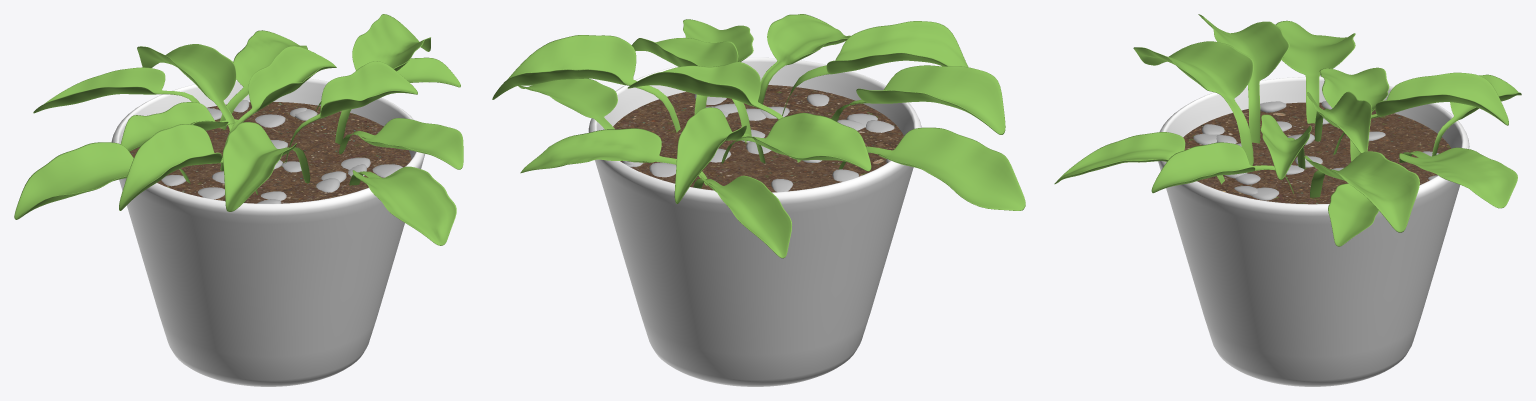
The model's file is planta3.glb.
3 views of the same model, side by side, from view 1: azimuth 30°, elevation 25°; view 2: azimuth 150°, elevation 25°; view 3: azimuth 270°, elevation 25° (orthographic). The views are drawn at different scales.
Parts seen in each view (by area): view 1: plant asset, Cylinder; view 2: plant asset, Cylinder; view 3: plant asset, Cylinder.
Part boxes in pixels (x1,y1,x2,y2): plant asset: [14, 14, 463, 386]; Cylinder: [129, 102, 411, 203]; plant asset: [492, 14, 1025, 386]; Cylinder: [613, 85, 903, 192]; plant asset: [1054, 14, 1521, 386]; Cylinder: [1183, 102, 1450, 204].
Size of the model in its own units: 0.518 by 0.2948 by 0.4577.
Materials: 4 (1 with a texture image).
